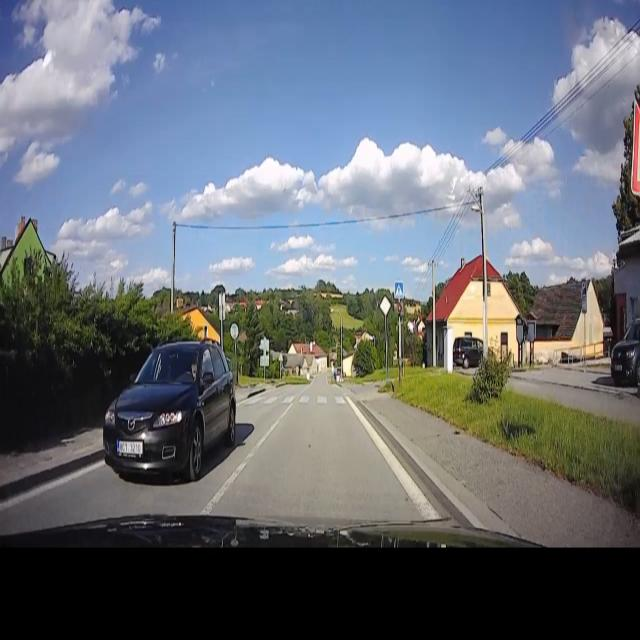Pedestrian crosswalk: (394, 280, 403, 300)
